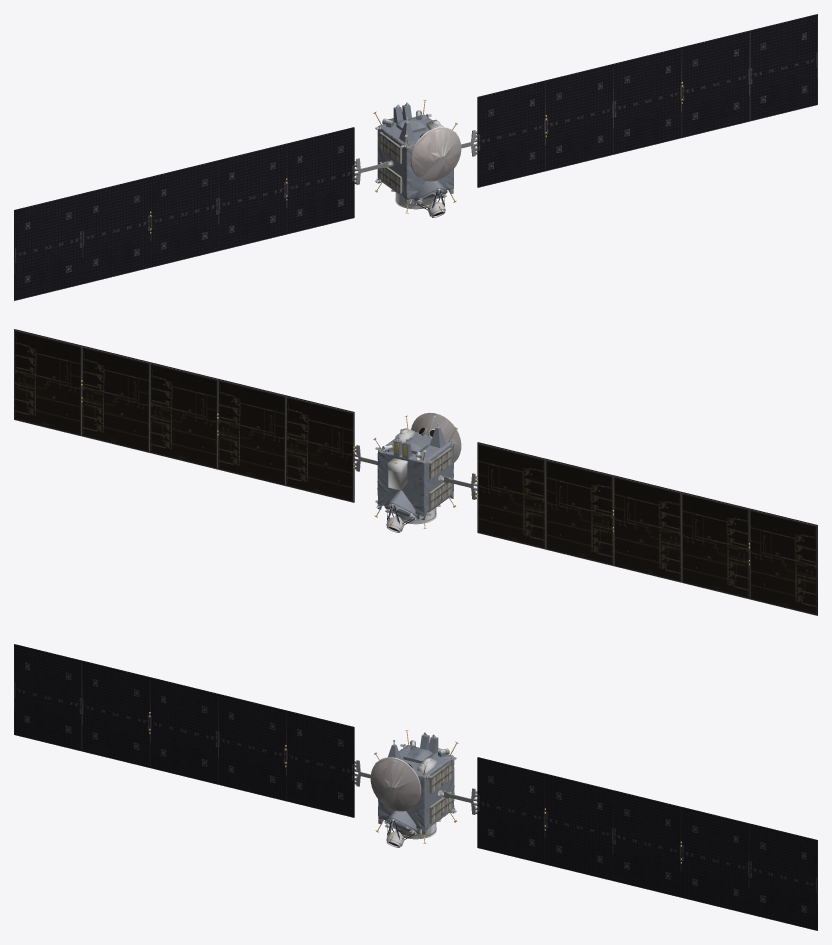
File: Dawn.fbx
3 renders of one model, top to bottom at view 1: azimuth 30°, elevation 25°; view 2: azimuth 150°, elevation 25°; view 3: azimuth 330°, elevation 25°, orthographic.
Visible parts, largest first — view 1: tex_01.002, black_krinkle, foil_silver_2, tex_01; view 2: tex_01.002, black_krinkle, tex_01, foil_silver_2, foil_gold; view 3: tex_01.002, black_krinkle, foil_silver_2, tex_01.
Part boxes in pixels (bbox=[...]): tex_01.002: bbox=[14, 14, 817, 300]; black_krinkle: bbox=[377, 104, 453, 204]; foil_silver_2: bbox=[410, 127, 461, 181]; tex_01: bbox=[373, 100, 457, 217]; tex_01.002: bbox=[14, 329, 817, 615]; black_krinkle: bbox=[377, 427, 453, 519]; tex_01: bbox=[373, 415, 457, 532]; foil_silver_2: bbox=[411, 412, 461, 462]; foil_gold: bbox=[388, 428, 414, 490]; tex_01.002: bbox=[14, 644, 817, 930]; black_krinkle: bbox=[378, 734, 454, 834]; foil_silver_2: bbox=[370, 757, 421, 811]; tex_01: bbox=[374, 730, 458, 847].
Bounding box in the file's own units: 1970 × 256 × 245.
